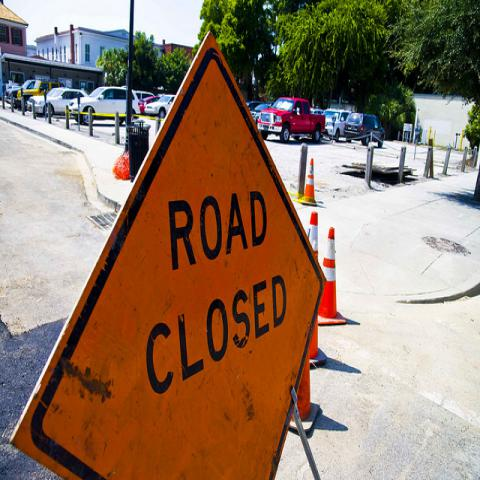car: (68, 86, 140, 125), (32, 88, 88, 117), (344, 112, 385, 147), (322, 109, 352, 142), (23, 81, 60, 103), (4, 80, 37, 104), (144, 95, 176, 118), (251, 101, 275, 126), (140, 95, 160, 114), (246, 100, 260, 122), (135, 90, 155, 99)
truck: (257, 96, 326, 144)
